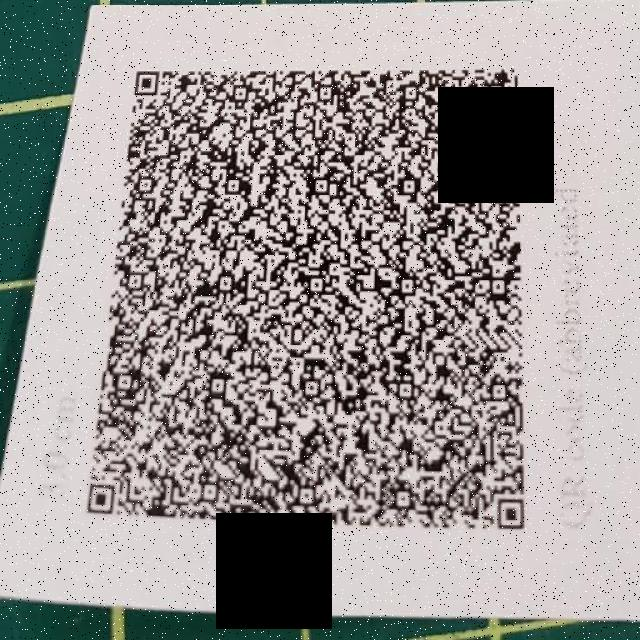QR_CODE: (78, 44, 562, 555)
